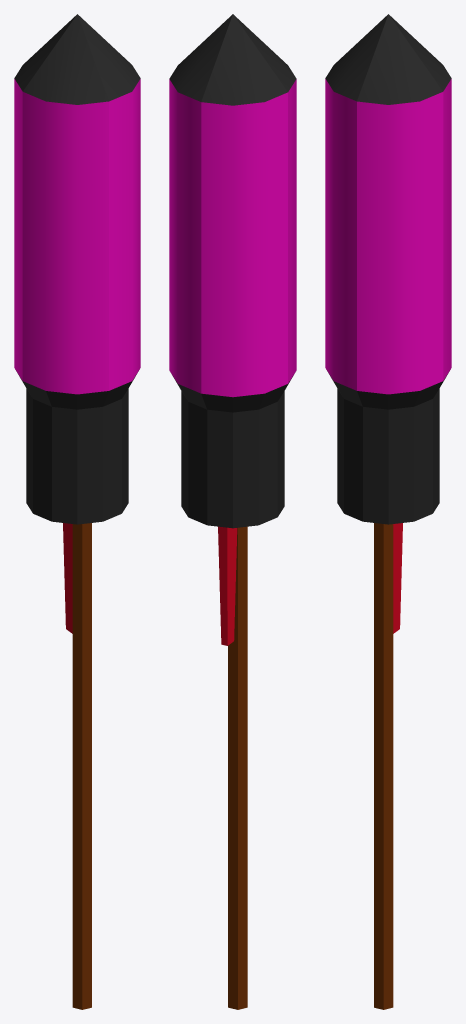
The model's file is item_firework2.fbx.
The picture shows the model from 3 angles, left to right: view 1: azimuth 30°, elevation 25°; view 2: azimuth 150°, elevation 25°; view 3: azimuth 330°, elevation 25°; orthographic projection.
Visible parts, largest first — view 1: firework; view 2: firework; view 3: firework.
Boxes of the visible parts, box(x1,y1,x2,y2) form: firework: box(14, 14, 140, 1009); firework: box(169, 14, 296, 1009); firework: box(325, 14, 451, 1009).
Bounding box in the file's own units: 18.22 × 157 × 18.22.
